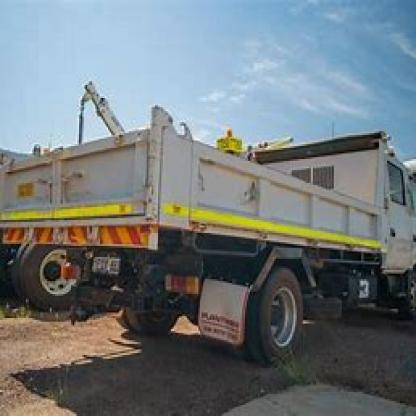dump_truck: (5, 59, 414, 372)
